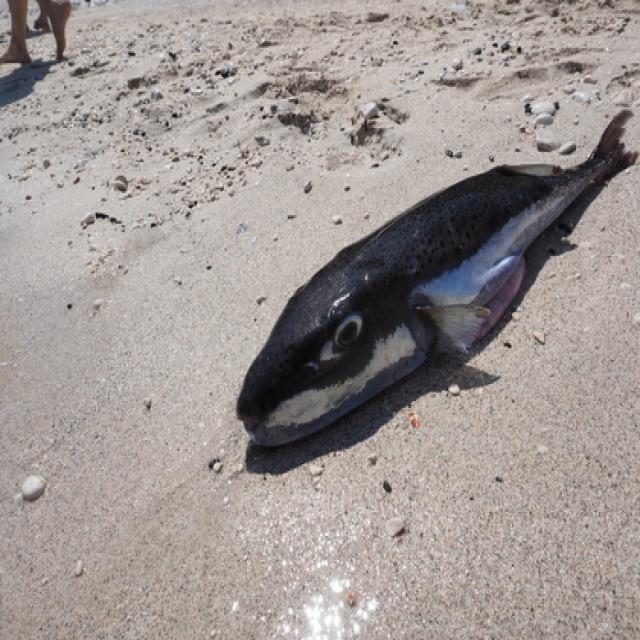Balik: (237, 110, 638, 445)
